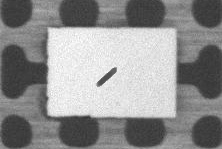DIE_INK: (95, 67, 116, 87)
